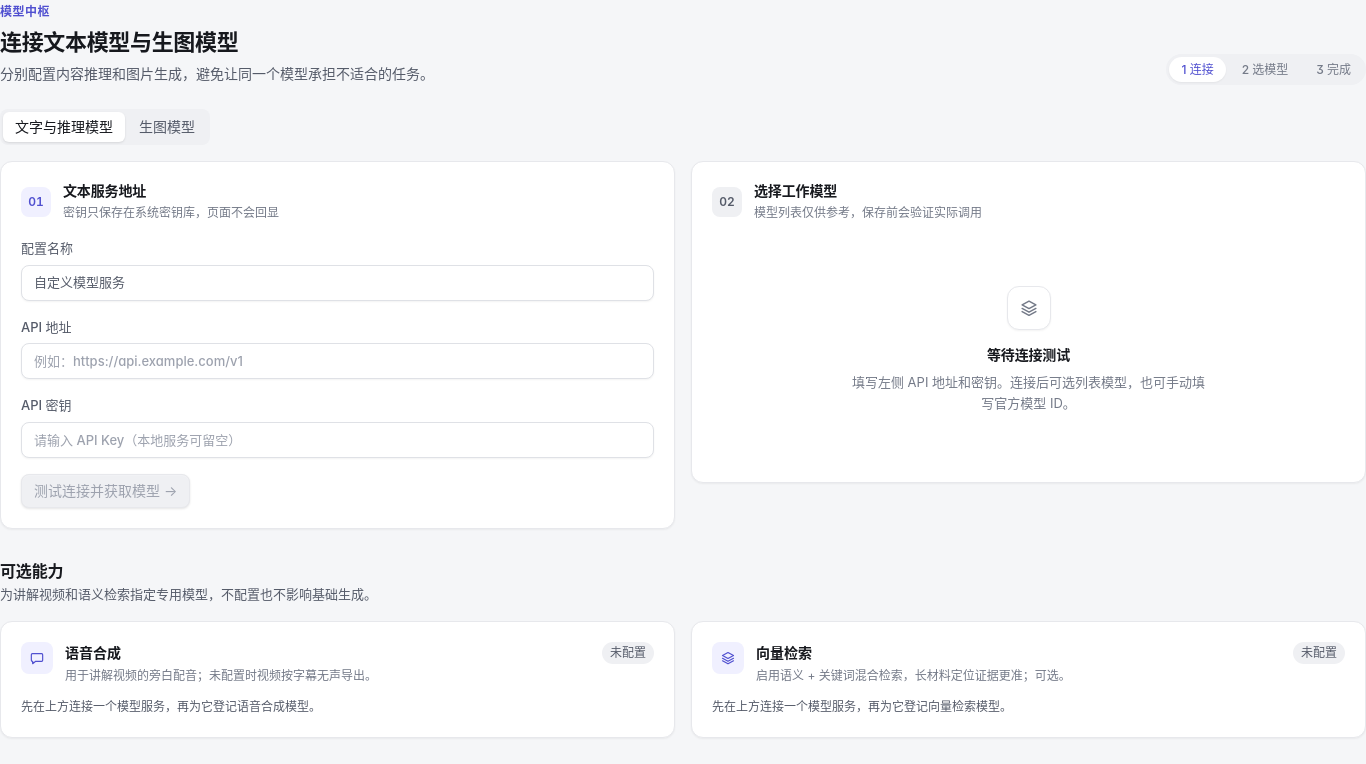
empty filtered image catalog permits a manual model ID without inventing availability
The image size is (1366, 764).
Click the button "生图模型".
click(167, 127)  # box x1=127 y1=112 x2=207 y2=142
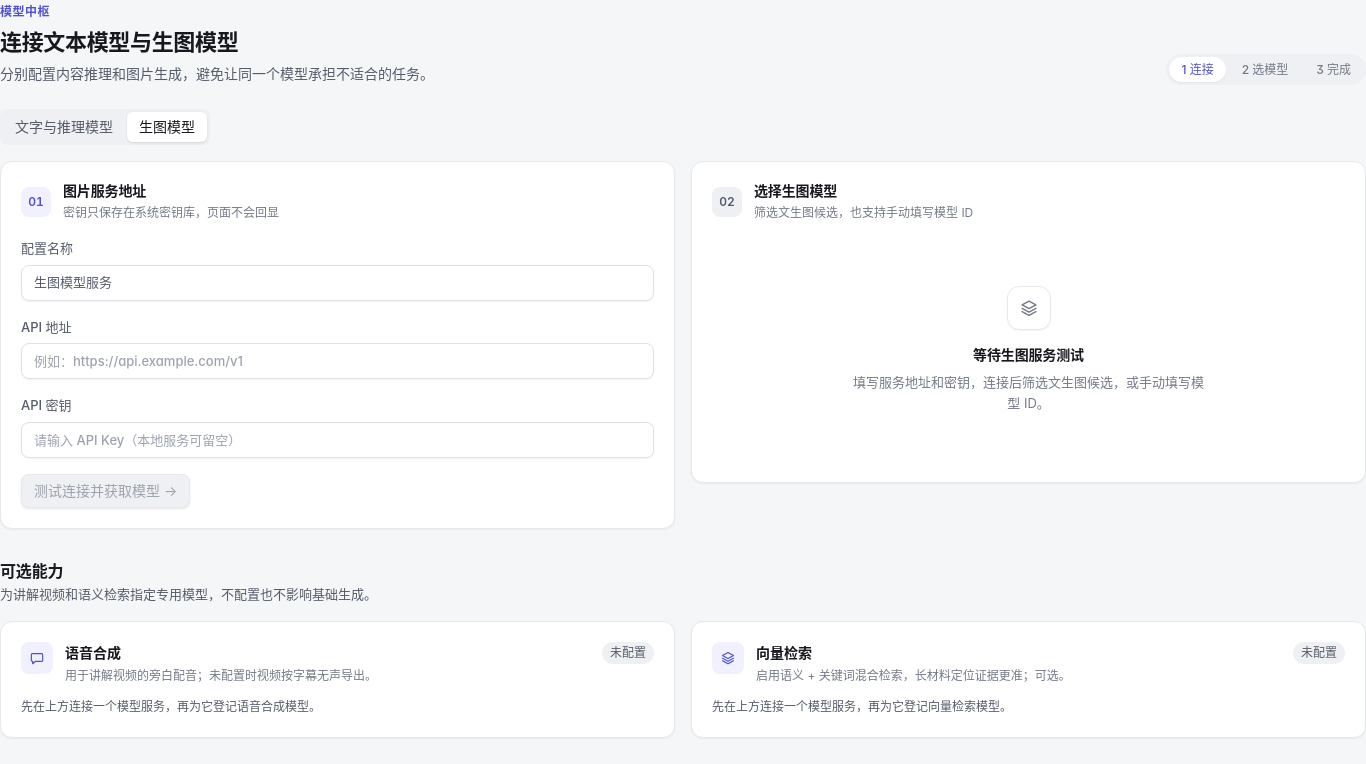
Type "https://api-inference.modelscope.cn/v1" into the field labelled "API 地址".
click(338, 361); type("https://api-inference.modelscope.cn/v1")  # box x1=21 y1=343 x2=654 y2=379
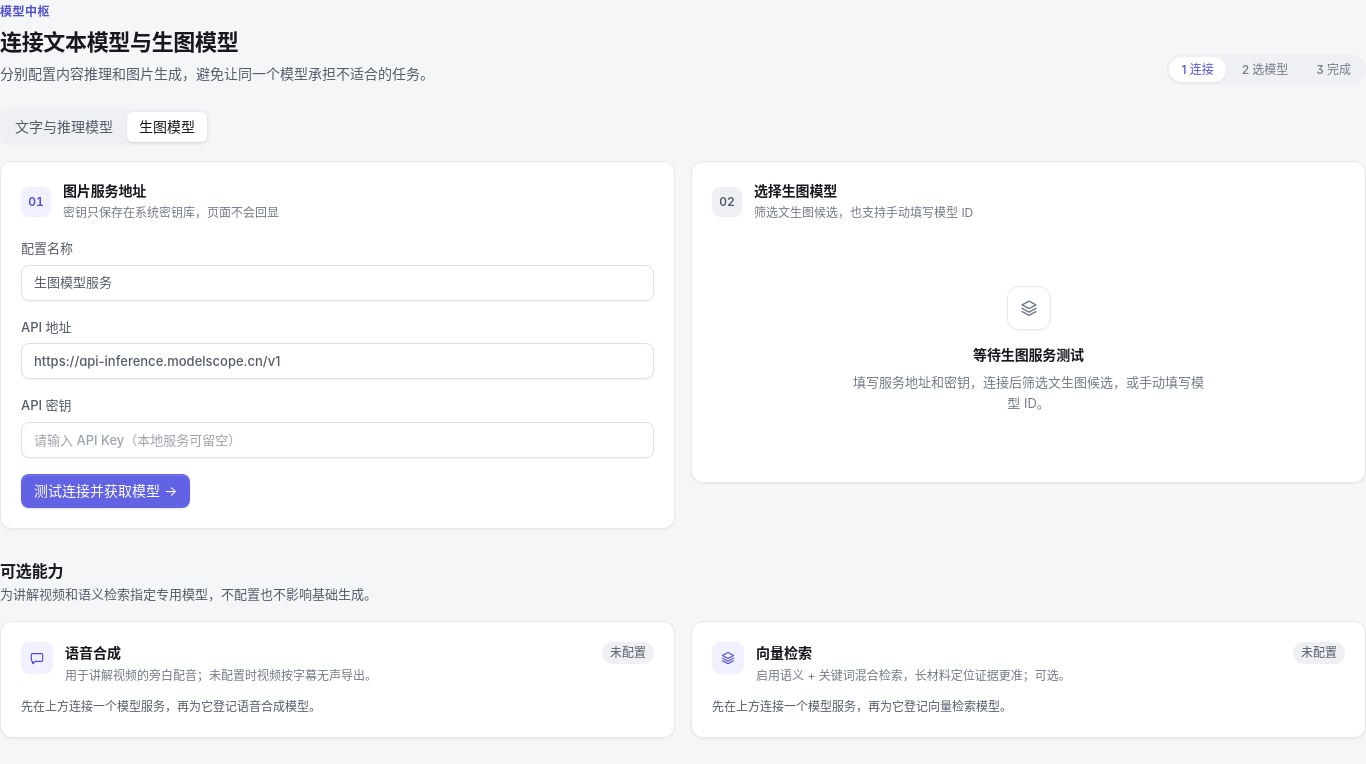
Click the button "测试连接并获取模型 →".
click(106, 491)  # box x1=21 y1=474 x2=190 y2=508
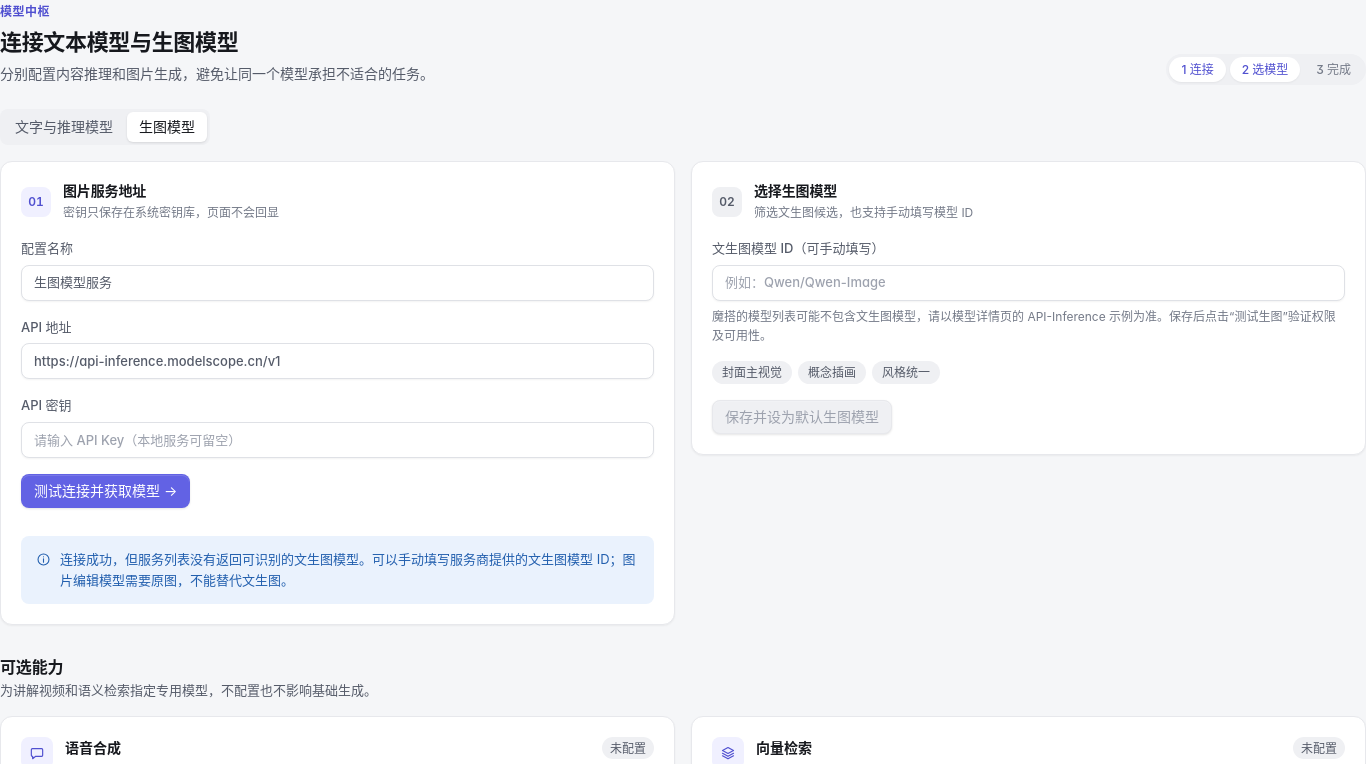
Expected: the button "保存并设为默认生图模型" is disabled, x1=712 y1=400 x2=892 y2=434
Type "Qwen/Qwen-Image" into the field with placeholder "例如：Qwen/Qwen-Image".
click(1028, 282); type("Qwen/Qwen-Image")  # box x1=712 y1=264 x2=1345 y2=300
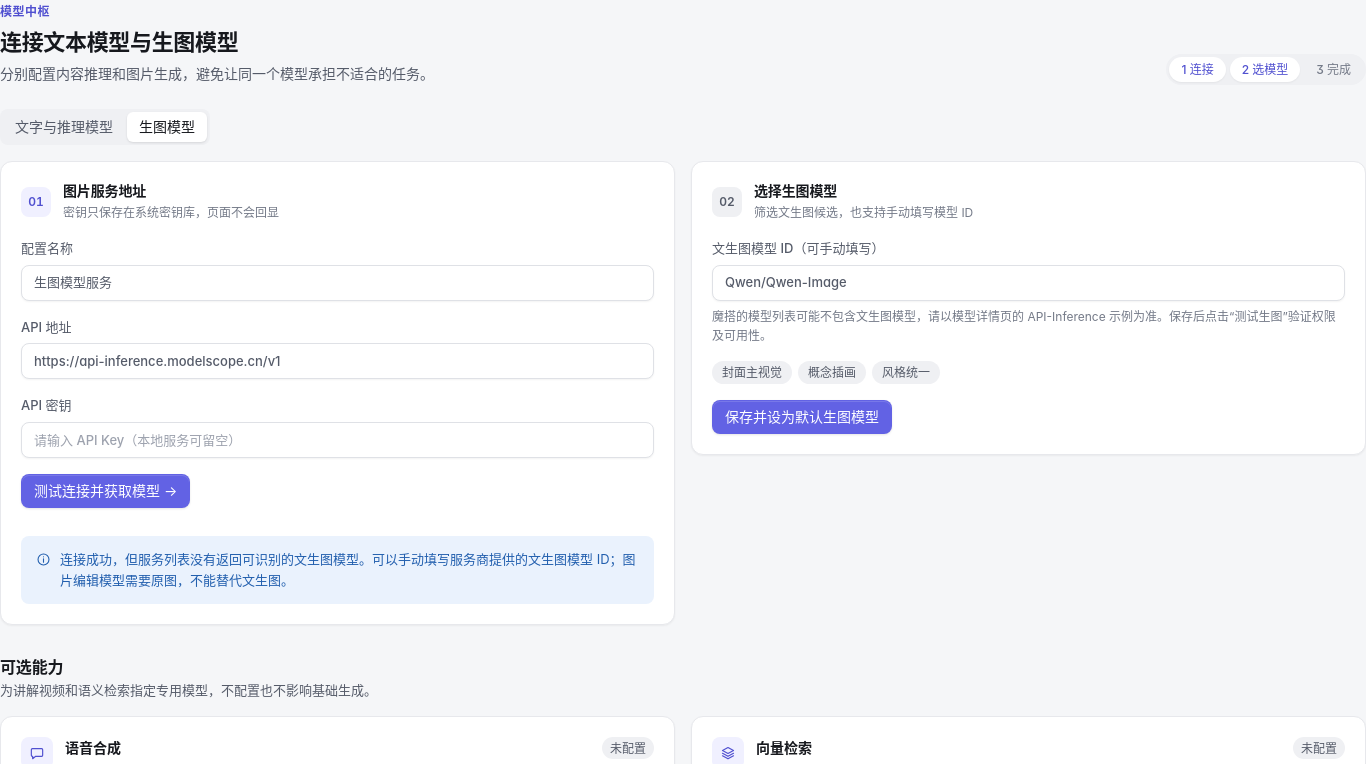
Expected: the text "列表没有返回可识别的文生图模型" is shown, x1=60 y1=551 x2=636 y2=588
Expected: the button "保存并设为默认生图模型" is enabled, x1=712 y1=400 x2=892 y2=434
Replace the text in the field labelled "API 地址" with "https://different.example/v1" at (338, 361), box x1=21 y1=343 x2=654 y2=379
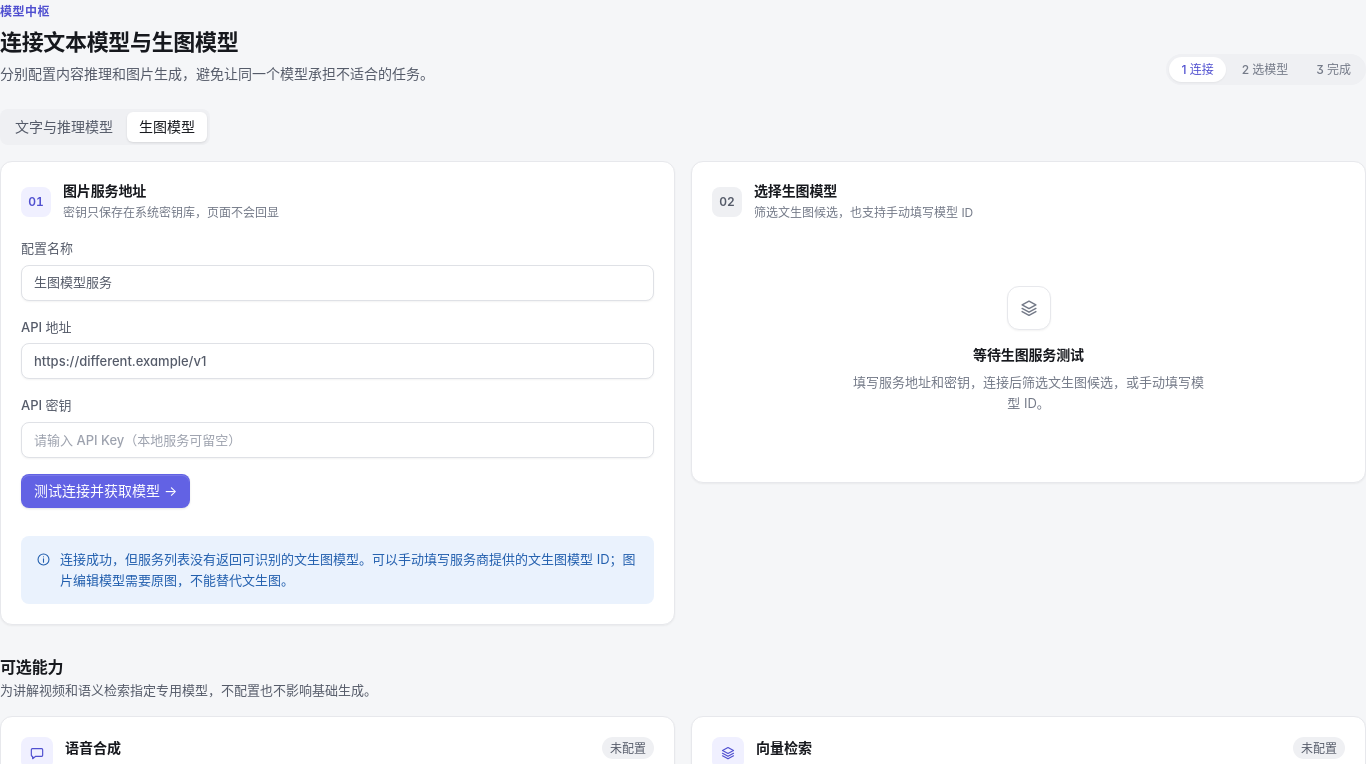
Expected: the button "保存并设为默认生图模型" is gone
